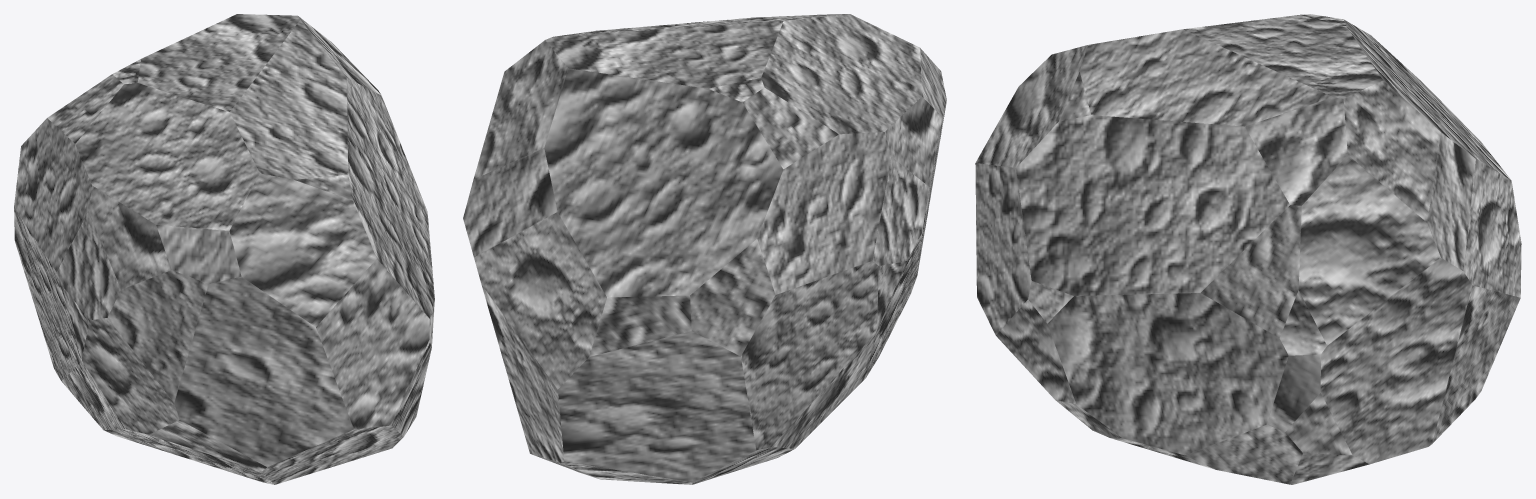
The model's file is asteroid4.glb.
The picture shows the model from 3 angles, left to right: view 1: azimuth 30°, elevation 25°; view 2: azimuth 150°, elevation 25°; view 3: azimuth 270°, elevation 25°; orthographic projection. The views are drawn at different scales.
Parts seen in each view (by area): view 1: Cube.001; view 2: Cube.001; view 3: Cube.001.
Part boxes in pixels (x1=…): Cube.001: x1=14, y1=14, x2=434, y2=484; Cube.001: x1=463, y1=14, x2=946, y2=484; Cube.001: x1=975, y1=14, x2=1521, y2=484.
Bounding box in the file's own units: 1.82 × 1.83 × 2.32.
1 material, 1 textured.
